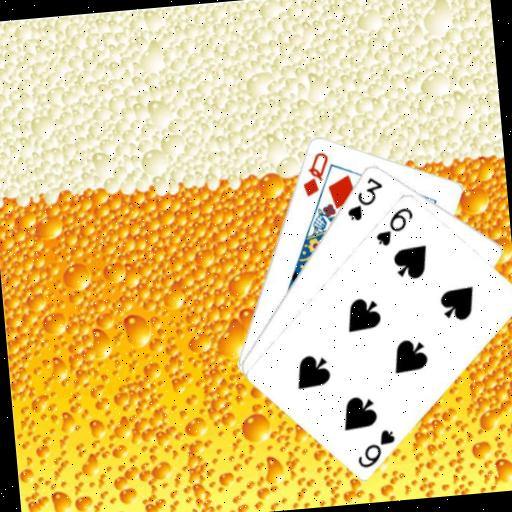3S: (341, 173, 387, 223)
6S: (370, 203, 417, 249), (352, 425, 399, 470)
QD: (297, 148, 333, 199)
